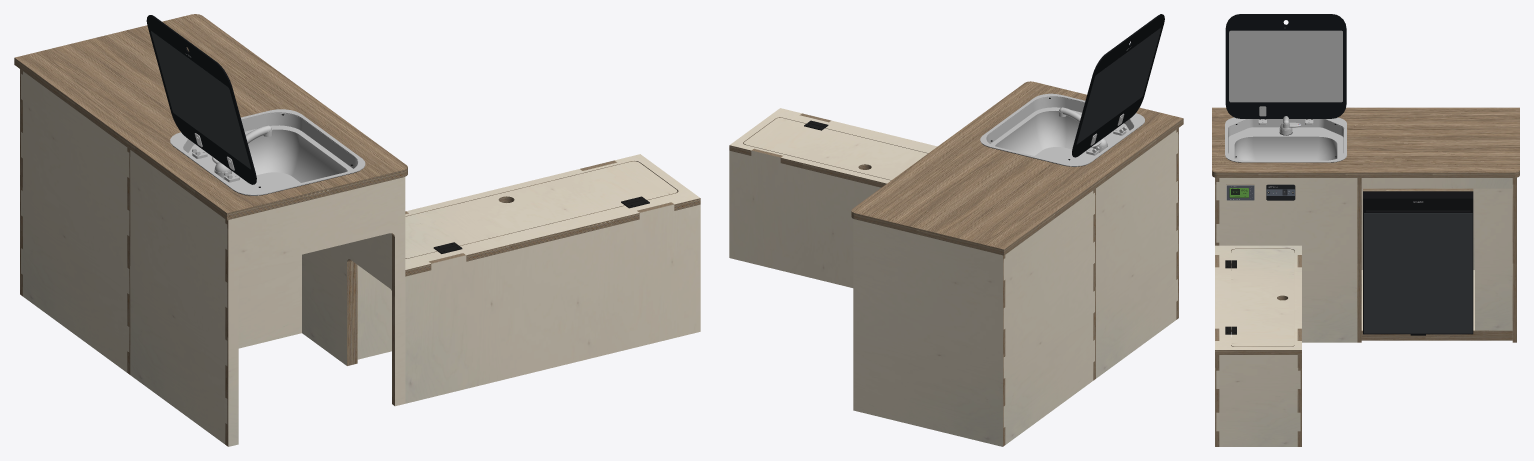
The model's file is front-module-rear-130-birch.glb.
3 views of the same model, side by side, from view 1: azimuth 30°, elevation 25°; view 2: azimuth 150°, elevation 25°; view 3: azimuth 270°, elevation 25° (orthographic). The views are drawn at different scales.
Visible parts, largest first — view 1: Forward end panel -15mm with top tenons_1, ボディ61_0, Back panel - 15mm with tenons_0.002, Back panel - 15mm with tenons_0.001, Forward end panel -15mm with top tenons_1.001, ボディ56_1, Stainless basin with rear faucet ledge_0, Front panel - 15mm with tenons_1.001, Gray ceramic printed field approximation_0, Forward end panel -15mm with top tenons_1.002, ボディ57_1, Black safety glass_0 (+4 smaller); view 2: Rearward end panel -15mm with top tenons_1.001, ボディ61_0, Back panel - 15mm with tenons_0.002, Back panel - 15mm with tenons_0.001, Rearward end panel -15mm with top tenons_1, Stainless basin with rear faucet ledge_0, ボディ56_1, Gray ceramic printed field approximation_0, ボディ57_1, Black safety glass_0, ボディ57_0; view 3: ボディ61_0, Front panel - 15mm with tenons_1.001, Dark gray frameless face_0, ボディ15 (1)_0, Front panel - 15mm with tenons_0, ボディ56_1, Rear extension removable infill - 130x540x15mm_1, Stainless basin with rear faucet ledge_0, Black safety glass_0, ボディ57_1, Door black surround with full-width recessed handle_0, ボディ53_1 (+10 smaller).
Part boxes in pixels (<box>): Forward end panel -15mm with top tenons_1: <box>405,204,700,403</box>; ボディ61_0: <box>14,14,407,220</box>; Back panel - 15mm with tenons_0.002: <box>21,71,129,372</box>; Back panel - 15mm with tenons_0.001: <box>130,150,227,444</box>; Forward end panel -15mm with top tenons_1.001: <box>228,177,405,446</box>; ボディ56_1: <box>405,161,677,258</box>; Stainless basin with rear faucet ledge_0: <box>170,109,365,195</box>; Front panel - 15mm with tenons_1.001: <box>302,233,391,365</box>; Gray ceramic printed field approximation_0: <box>151,31,250,169</box>; Forward end panel -15mm with top tenons_1.002: <box>238,254,301,348</box>; ボディ57_1: <box>405,154,699,269</box>; Black safety glass_0: <box>146,15,256,184</box>; Rearward end panel -15mm with top tenons_1.001: <box>853,219,1002,446</box>; ボディ61_0: <box>851,81,1183,255</box>; Back panel - 15mm with tenons_0.002: <box>1003,191,1094,444</box>; Back panel - 15mm with tenons_0.001: <box>1096,130,1177,378</box>; Rearward end panel -15mm with top tenons_1: <box>729,150,880,287</box>; Stainless basin with rear faucet ledge_0: <box>980,93,1144,166</box>; ボディ56_1: <box>744,118,927,180</box>; Gray ceramic printed field approximation_0: <box>1076,28,1161,144</box>; ボディ57_1: <box>730,108,937,183</box>; Black safety glass_0: <box>1072,14,1164,157</box>; ボディ57_0: <box>729,117,927,187</box>; ボディ61_0: <box>1212,107,1519,177</box>; Front panel - 15mm with tenons_1.001: <box>1216,178,1357,342</box>; Dark gray frameless face_0: <box>1364,213,1472,333</box>; ボディ15 (1)_0: <box>1229,30,1342,102</box>; Front panel - 15mm with tenons_0: <box>1216,355,1300,446</box>; ボディ56_1: <box>1231,249,1294,346</box>; Rear extension removable infill - 130x540x15mm_1: <box>1475,188,1512,330</box>; Stainless basin with rear faucet ledge_0: <box>1225,117,1346,162</box>; Black safety glass_0: <box>1225,14,1346,118</box>; ボディ57_1: <box>1215,245,1301,349</box>; Door black surround with full-width recessed handle_0: <box>1363,191,1473,334</box>; ボディ53_1: <box>1361,178,1512,188</box>.
Bounding box in the file's own units: 1.37 × 1.02 × 1.06.
30 materials, 4 textured.
